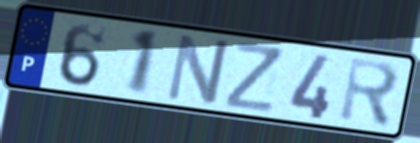1: (125, 27, 162, 96)
4: (285, 49, 333, 123)
6: (57, 21, 108, 89)
N: (163, 30, 233, 107)
R: (336, 54, 402, 131)
Z: (223, 40, 286, 116)
